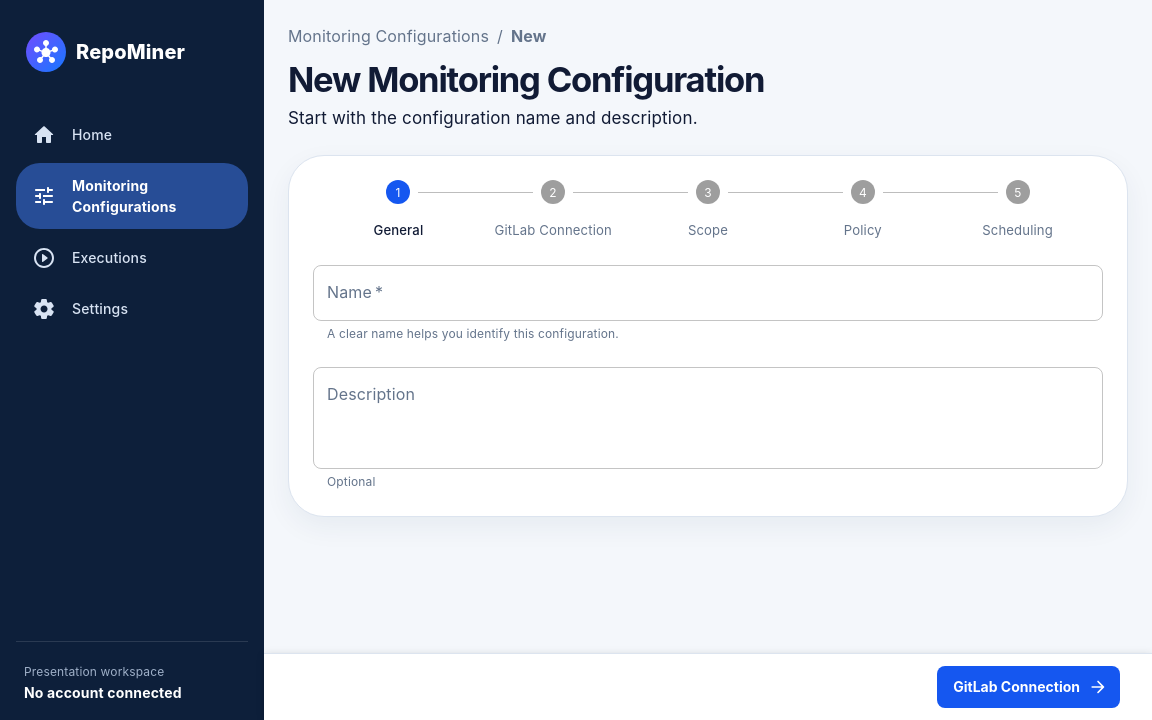
Monitoring Configuration creation and listing › validates required General values before advancing
The image size is (1152, 720).
Click the button with aria-label "next step: gitlab connection" at (1029, 687), box [937, 666, 1120, 708]
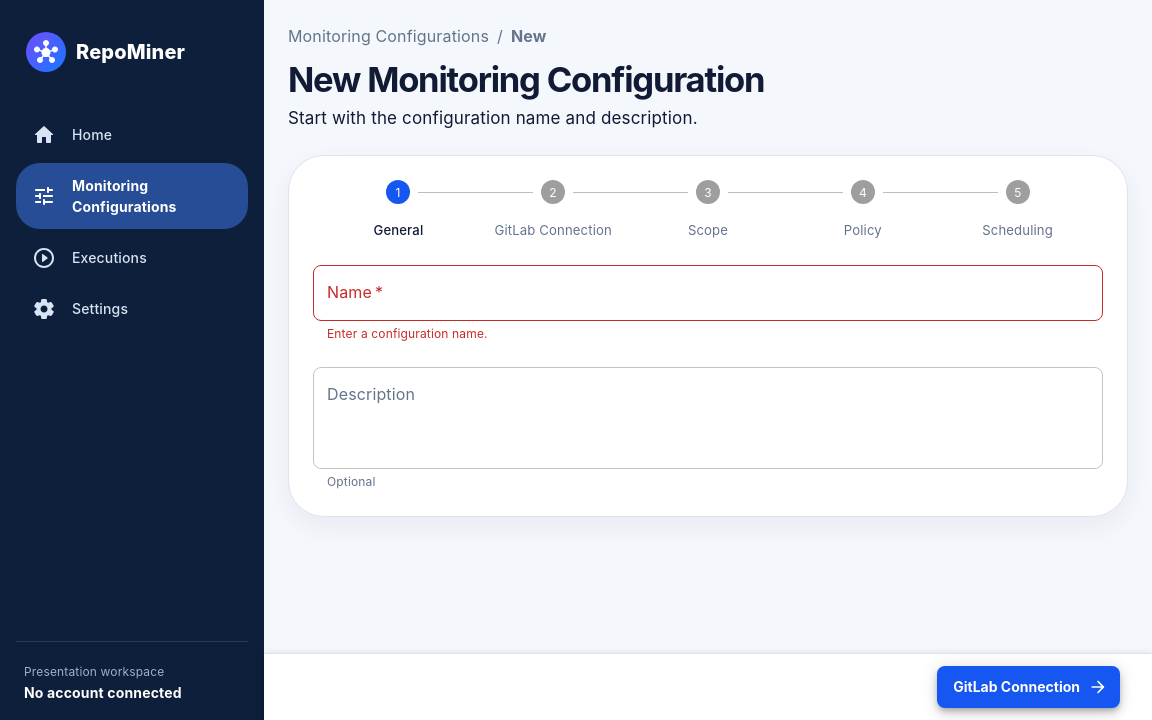
Expected: the text "Enter a configuration name." is shown, [327, 326, 488, 341]
